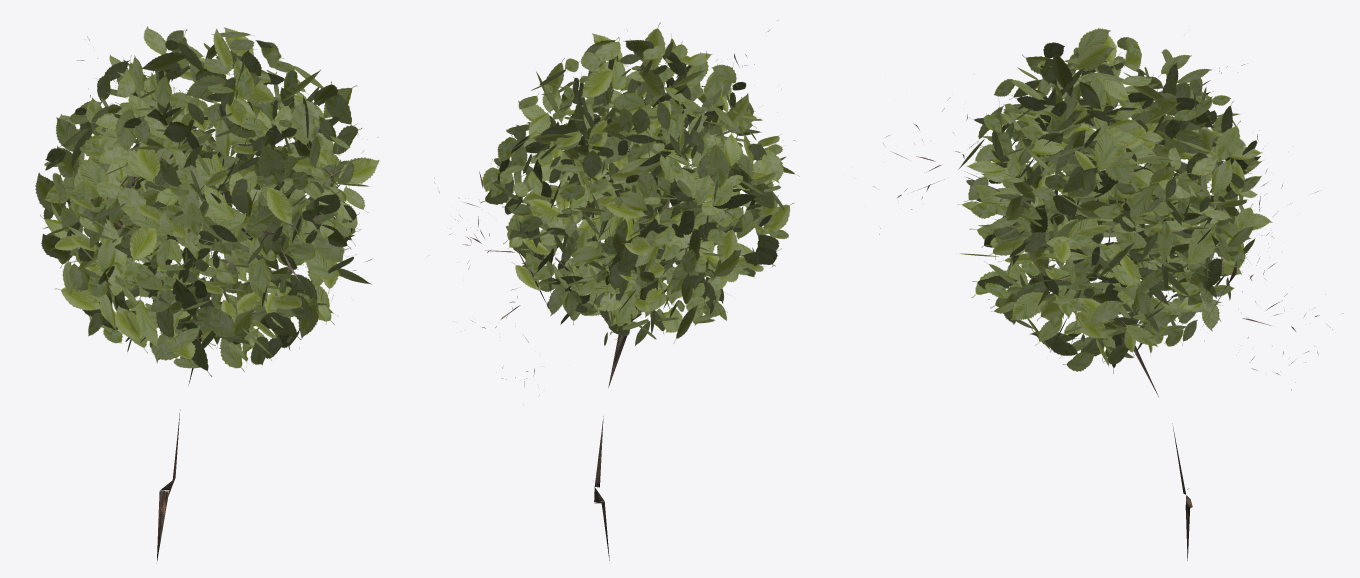
Rendered from tree-game.glb.
3 renders of one model, left to right at view 1: azimuth 30°, elevation 25°; view 2: azimuth 150°, elevation 25°; view 3: azimuth 270°, elevation 25°, orthographic. The views are drawn at different scales.
Visible parts, largest first — view 1: LeafCards, tree_small_02_LOD0; view 2: LeafCards, tree_small_02_LOD0; view 3: LeafCards, tree_small_02_LOD0.
Boxes of the visible parts, left/top/right/bottom form: LeafCards: left=35, top=26, right=379, bottom=376; tree_small_02_LOD0: left=68, top=36, right=377, bottom=563; LeafCards: left=480, top=22, right=799, bottom=345; tree_small_02_LOD0: left=434, top=20, right=796, bottom=560; LeafCards: left=957, top=28, right=1272, bottom=373; tree_small_02_LOD0: left=873, top=59, right=1343, bottom=560.
Bounding box in the file's own units: 2.77 × 4.64 × 3.93.
3 materials, 3 textured.
